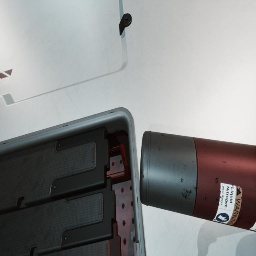NitrogenTank ,: (139, 130, 256, 232)
